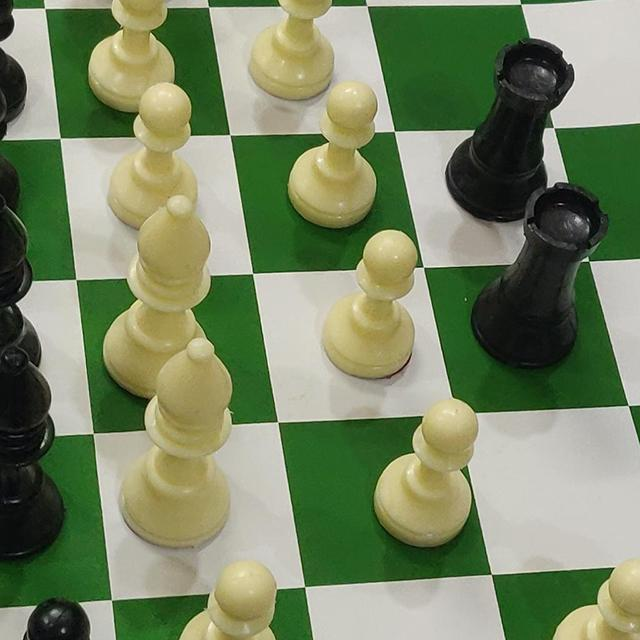black-bishop: (0, 342, 68, 563)
black-rook: (471, 181, 608, 376), (446, 40, 580, 222)
white-bishop: (117, 336, 235, 550), (102, 197, 214, 404)
white-pawn: (370, 398, 478, 562), (288, 82, 400, 216), (322, 229, 422, 376), (106, 86, 199, 230), (180, 545, 314, 640), (86, 0, 176, 113), (543, 536, 640, 640), (245, 0, 336, 101)
